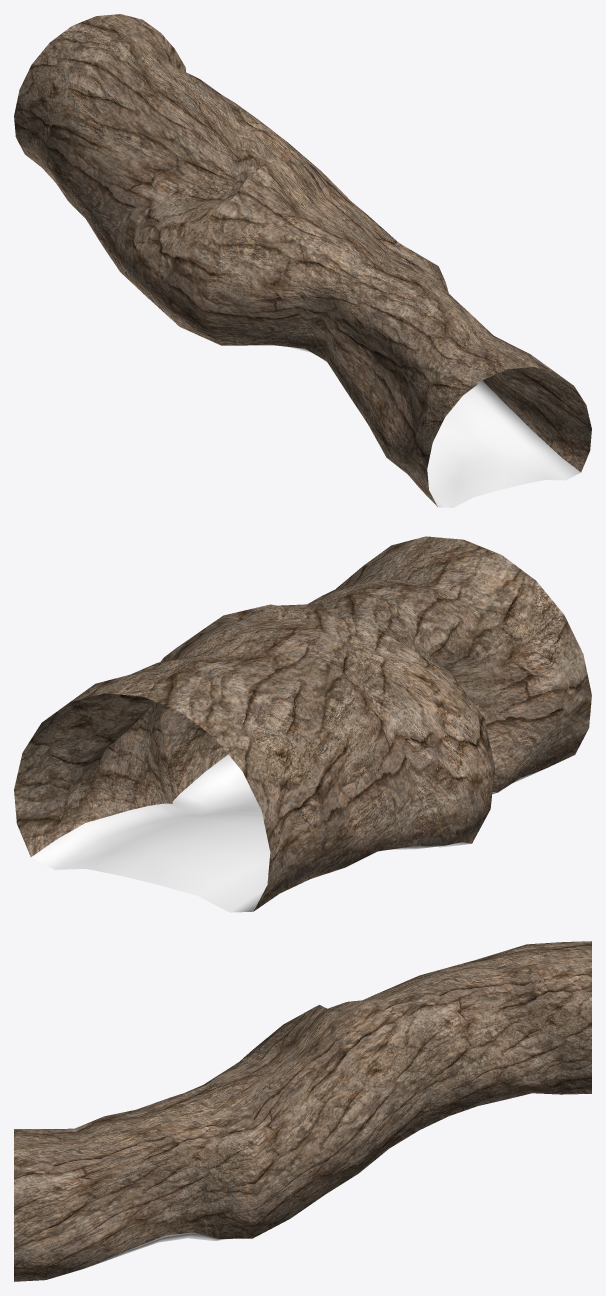
The model's file is CaveCorridorStraightUp.fbx.
3 views of the same model, one above another, from view 1: azimuth 30°, elevation 25°; view 2: azimuth 150°, elevation 25°; view 3: azimuth 270°, elevation 25° (orthographic). The views are drawn at different scales.
Visible parts, largest first — view 1: CaveCorridorStraightUp; view 2: CaveCorridorStraightUp; view 3: CaveCorridorStraightUp.
Part boxes in pixels (<box>): CaveCorridorStraightUp: <box>14,14,591,507</box>; CaveCorridorStraightUp: <box>14,536,591,912</box>; CaveCorridorStraightUp: <box>14,941,591,1281</box>.
Size of the model in its own units: 532 by 512 by 1040.
